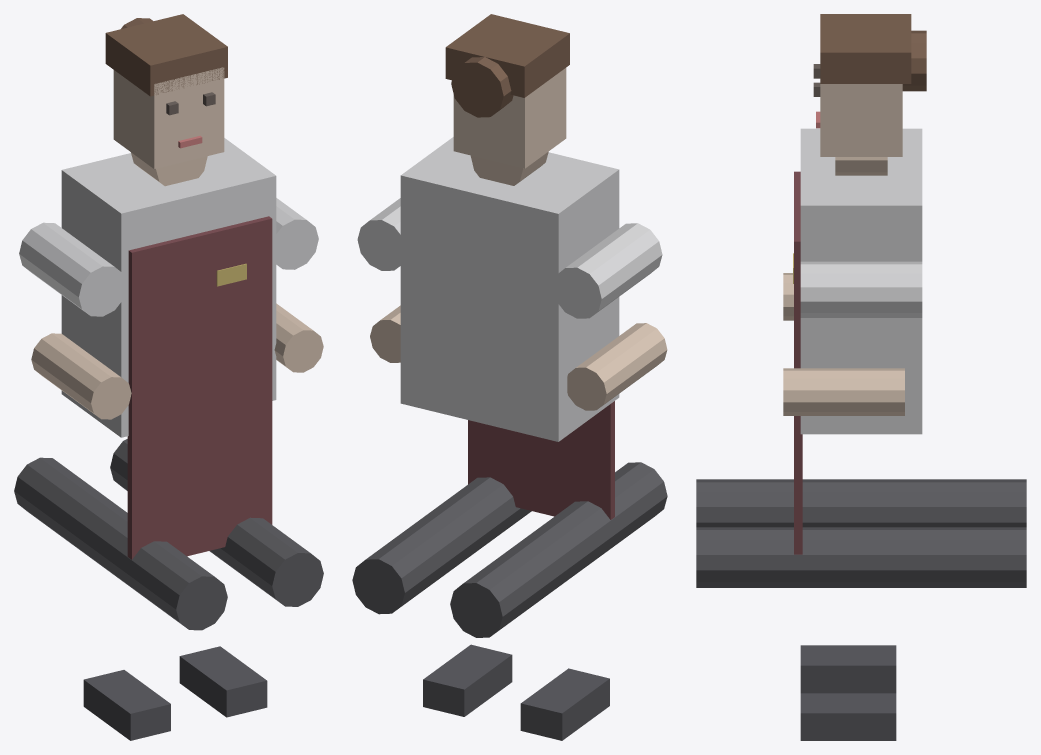
File: character_elena.glb
The picture shows the model from 3 angles, left to right: view 1: azimuth 30°, elevation 25°; view 2: azimuth 150°, elevation 25°; view 3: azimuth 270°, elevation 25°; orthographic projection.
Visible parts, largest first — view 1: geometry_0; view 2: geometry_0; view 3: geometry_0.
Boxes of the visible parts, left/top/right/bottom form: geometry_0: left=14, top=14, right=323, bottom=740; geometry_0: left=352, top=14, right=667, bottom=740; geometry_0: left=696, top=14, right=1026, bottom=740.
Bounding box in the file's own units: 0.65 × 1.71 × 0.76.
